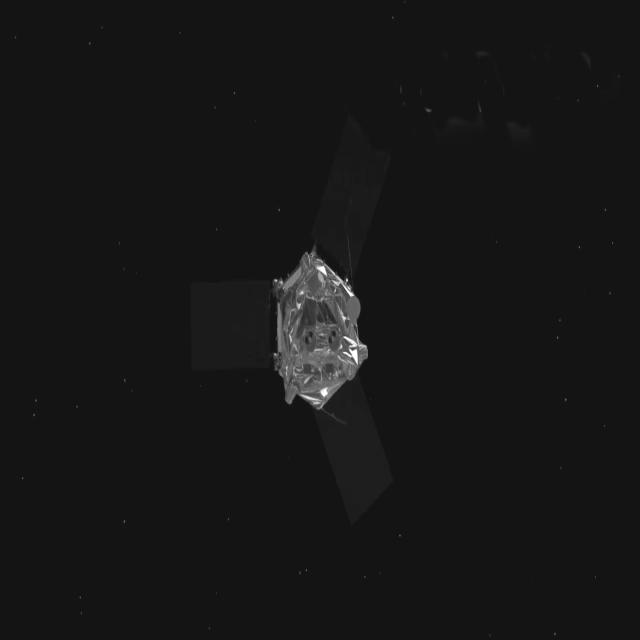satellite: (233, 210, 386, 444)
